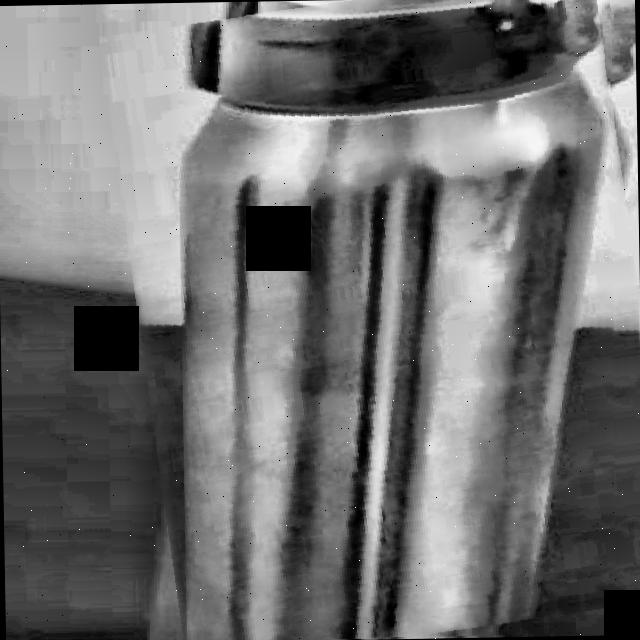bottle: (180, 0, 612, 640)
